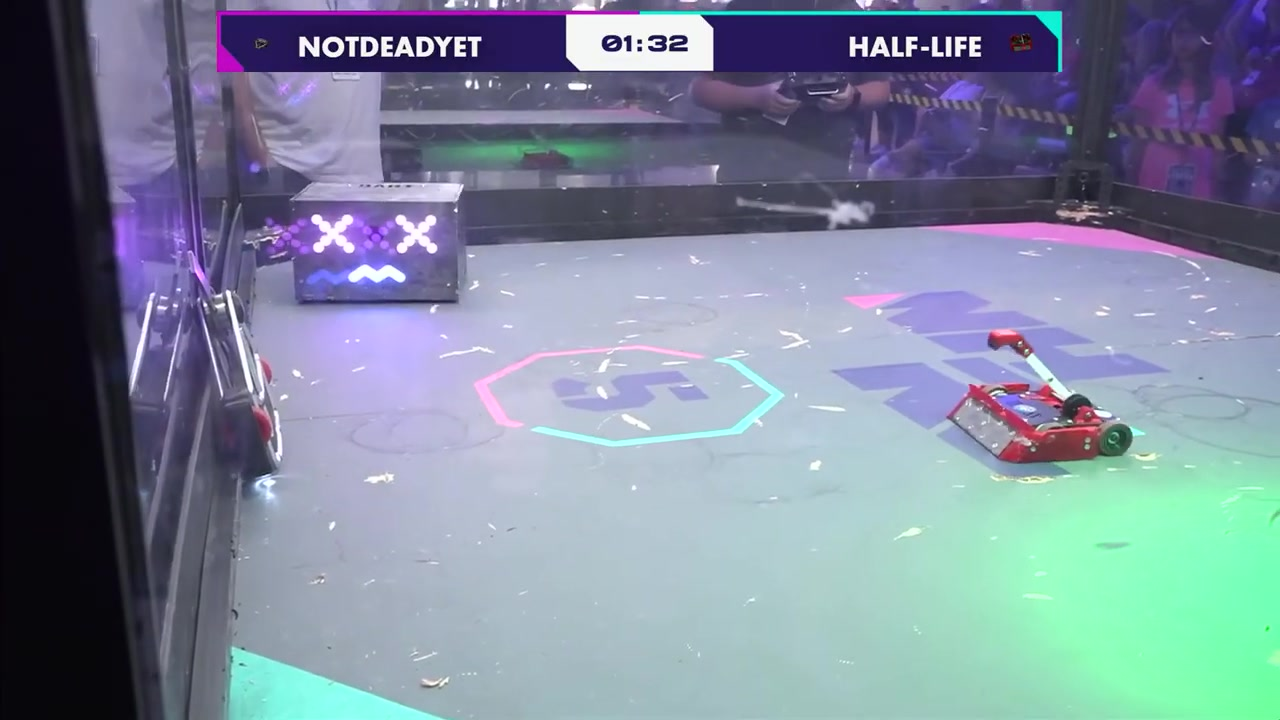combatbot: (941, 330, 1137, 466), (189, 252, 290, 479)
housebot: (288, 186, 467, 308)
